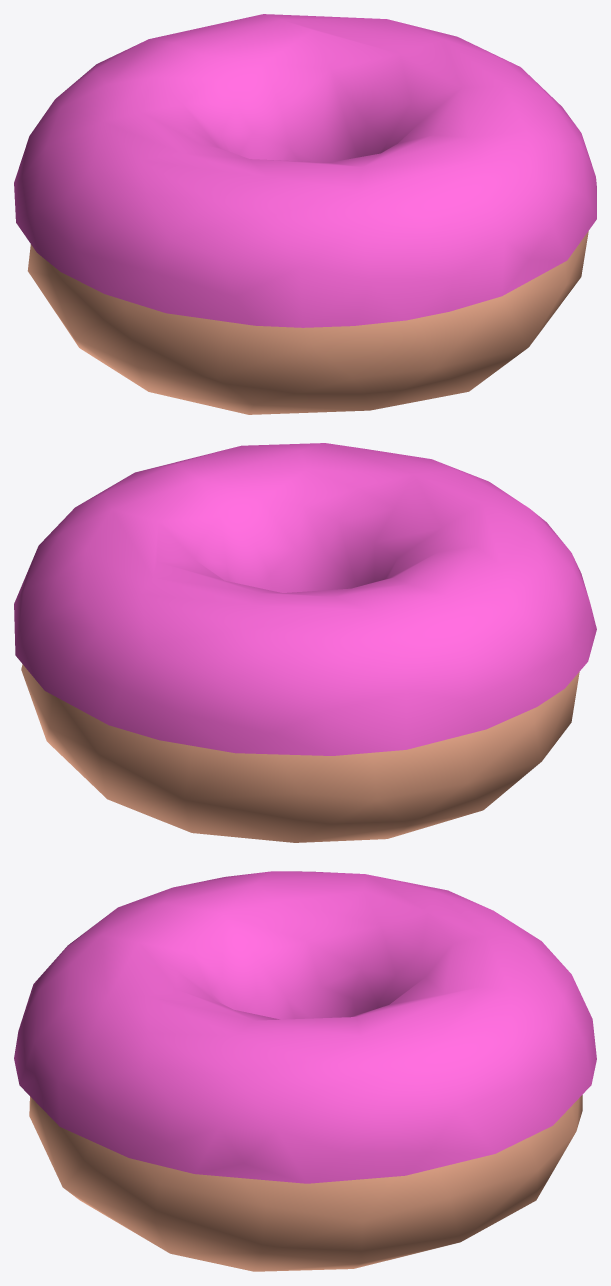
Rendered from donut.glb.
The picture shows the model from 3 angles, top to bottom: view 1: azimuth 30°, elevation 25°; view 2: azimuth 150°, elevation 25°; view 3: azimuth 270°, elevation 25°; orthographic projection.
Parts seen in each view (by area): view 1: Torus.002, Torus; view 2: Torus.002, Torus; view 3: Torus.002, Torus.
Part boxes in pixels (left/top/right/bottom): Torus.002: left=14, top=14, right=596, bottom=327; Torus: left=27, top=231, right=588, bottom=414; Torus.002: left=14, top=443, right=596, bottom=755; Torus: left=21, top=664, right=579, bottom=842; Torus.002: left=14, top=871, right=596, bottom=1183; Torus: left=29, top=1095, right=582, bottom=1271.
Bounding box in the file's own units: 2.21 × 0.9845 × 2.2.
